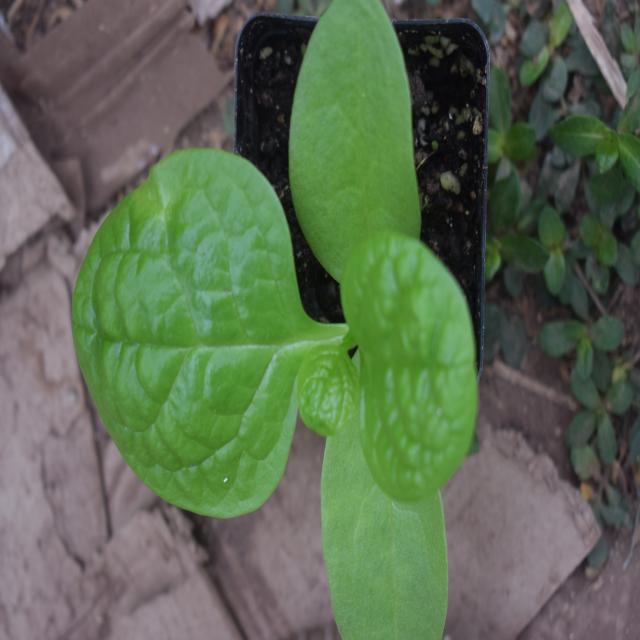Ceylon spinach: (70, 30, 498, 598)
